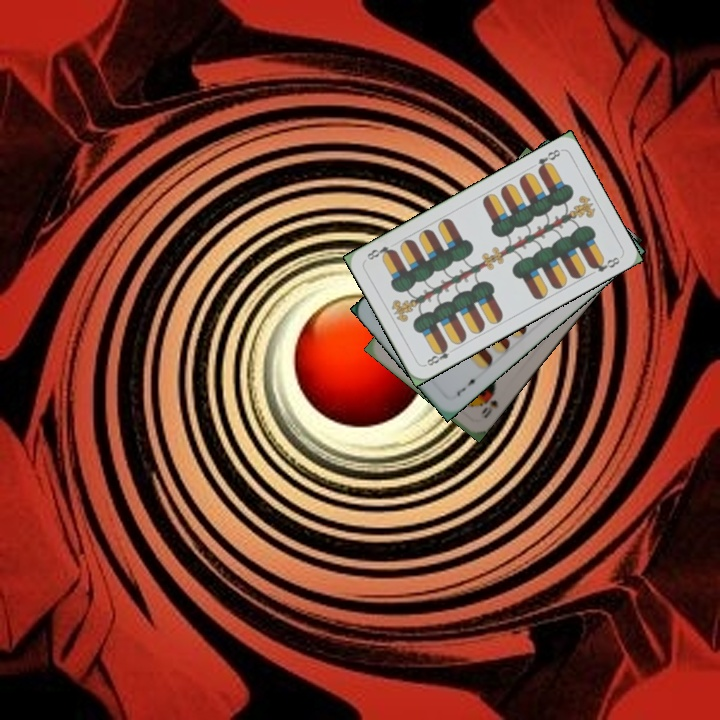E7: (453, 373, 482, 398)
E8: (420, 341, 458, 369), (533, 145, 563, 175)
SO: (478, 395, 501, 421)
